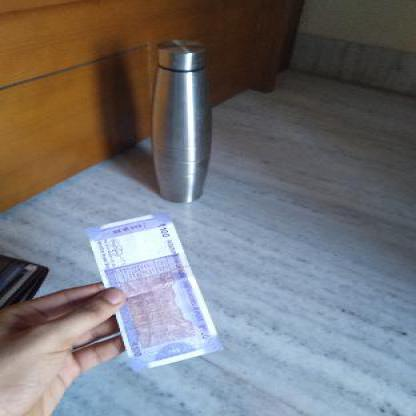New100Back: (83, 213, 218, 363)
